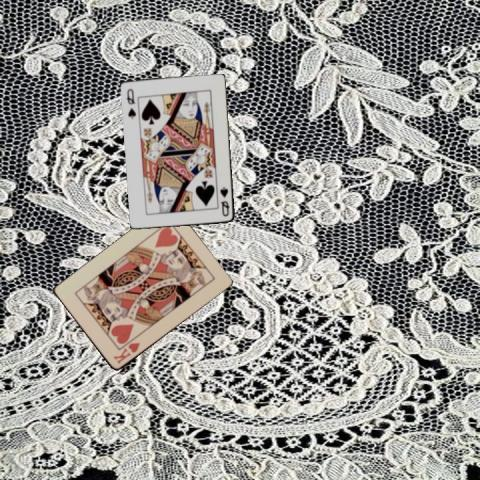Kh: (111, 339, 141, 366)
Qs: (217, 184, 231, 218), (124, 86, 137, 119)
